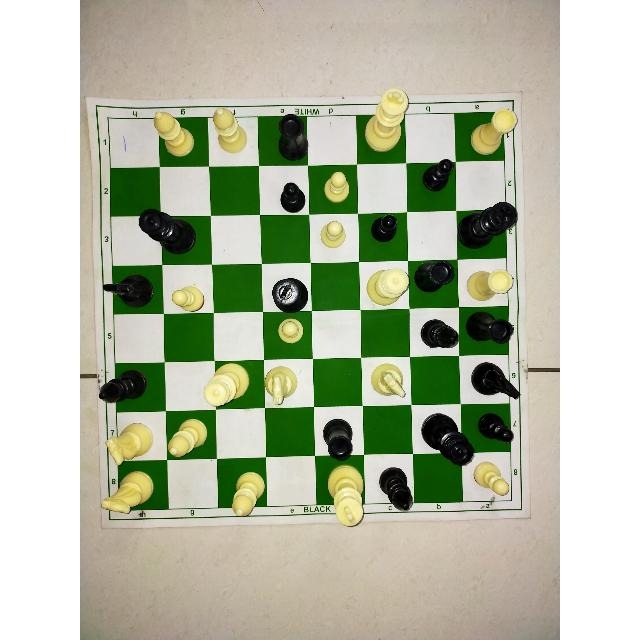black-bishop: (94, 361, 159, 411), (376, 462, 417, 520), (371, 456, 415, 502), (116, 367, 163, 408), (417, 319, 459, 355)
black-king: (458, 200, 524, 255), (97, 265, 161, 316), (263, 266, 311, 316), (456, 213, 506, 252), (266, 268, 308, 308)
black-knight: (466, 358, 528, 405), (459, 364, 511, 406), (113, 268, 160, 314)
black-pawn: (365, 214, 411, 262), (421, 149, 461, 201), (264, 170, 310, 214), (409, 166, 455, 210), (475, 407, 517, 450), (465, 412, 511, 448)
black-queen: (418, 407, 480, 473), (134, 200, 198, 258), (162, 220, 212, 264), (415, 407, 461, 453), (218, 364, 266, 406)
black-rook: (317, 404, 361, 460), (259, 117, 309, 165), (463, 311, 523, 351), (412, 263, 459, 310), (317, 410, 361, 454), (464, 313, 510, 354), (415, 253, 457, 297)
white-bishop: (147, 100, 204, 161), (222, 458, 266, 524), (160, 414, 220, 462), (203, 101, 251, 158), (219, 460, 266, 506), (157, 118, 205, 163), (170, 414, 218, 456), (211, 119, 257, 162)
white-king: (313, 460, 370, 536), (362, 83, 416, 159), (358, 118, 406, 164), (316, 461, 366, 505)
white-knight: (94, 470, 164, 521), (104, 419, 160, 474), (118, 463, 170, 509), (363, 360, 409, 405), (117, 418, 164, 460), (260, 366, 306, 408), (271, 368, 299, 404)
white-pawn: (309, 220, 358, 262), (320, 170, 358, 217), (169, 273, 213, 311), (267, 318, 312, 355), (473, 460, 511, 500)
white-queen: (196, 361, 258, 411), (359, 256, 413, 312), (363, 266, 409, 310)
white-rook: (466, 98, 524, 161), (464, 263, 518, 307), (455, 118, 505, 160), (462, 264, 507, 308)
